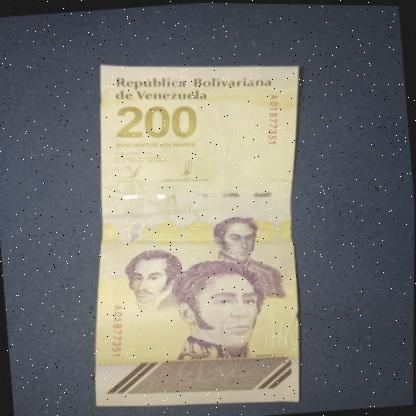vef_front: (67, 46, 328, 416)
